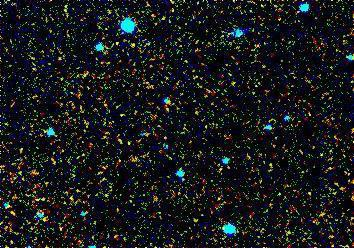star: (118, 31, 148, 61)
